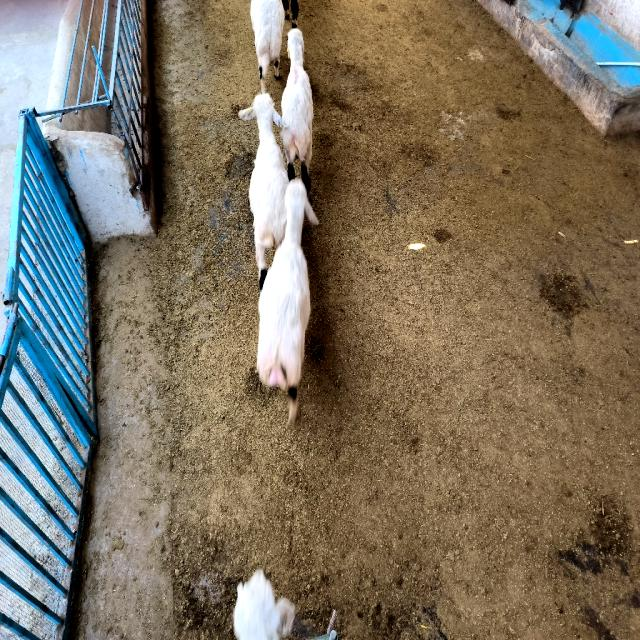sheep: (258, 178, 319, 422), (239, 93, 289, 289), (281, 28, 312, 198), (234, 570, 295, 640), (250, 0, 284, 92)
